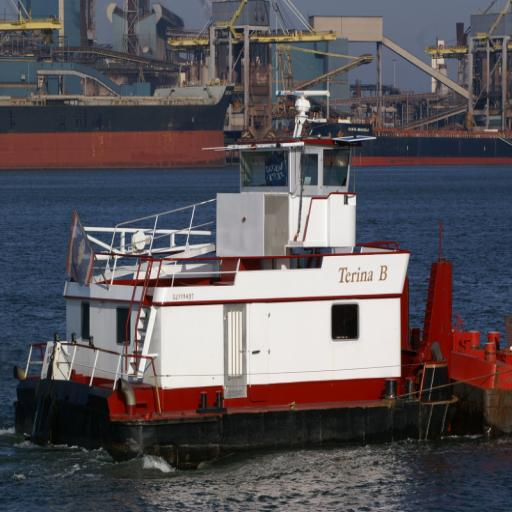tugboat: (7, 87, 465, 478)
